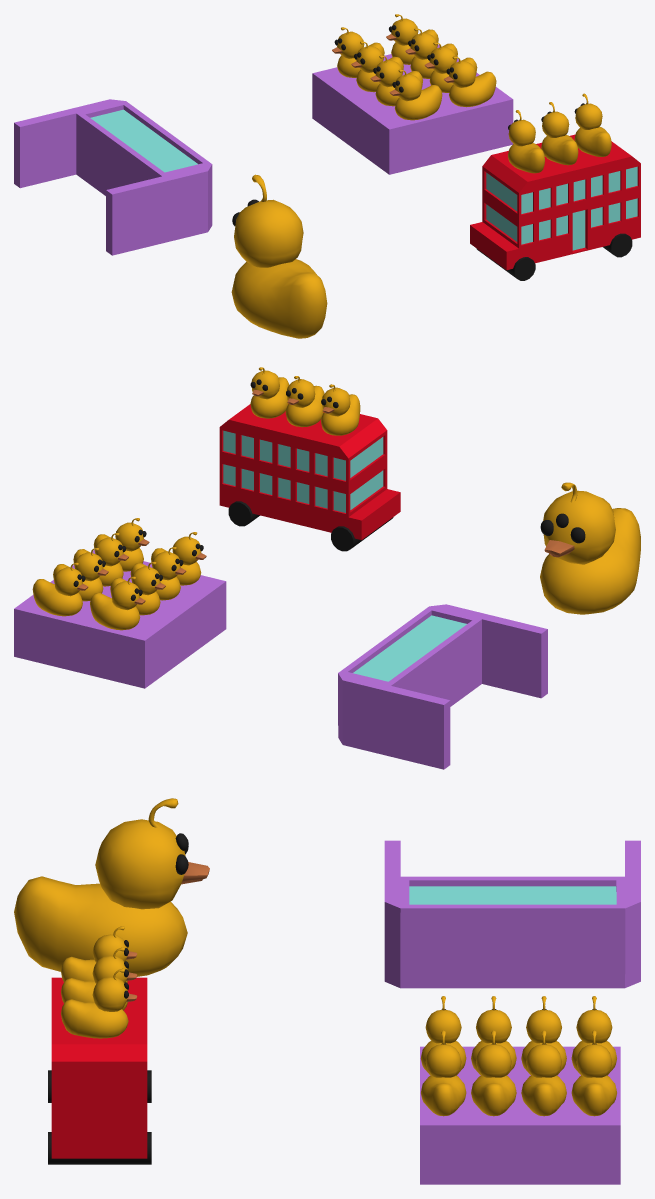
The model's file is Rubber_Duck_Platform.fbx.
3 views of the same model, one above another, from view 1: azimuth 30°, elevation 25°; view 2: azimuth 150°, elevation 25°; view 3: azimuth 270°, elevation 25° (orthographic). The views are drawn at different scales.
Visible parts, largest first — view 1: Cube.257, Cube.256, Cube.255, Sphere.006, Sphere.008, Sphere.004, Sphere.014, Cylinder.051, Cylinder.052; view 2: Cube.257, Cube.256, Cube.255, Sphere.006, Sphere.008, Sphere.004, Sphere.014, Cylinder.051; view 3: Cube.257, Sphere.006, Cube.255, Cube.256, Sphere.004, Sphere.014, Sphere.008, Cylinder.052.
Boxes of the visible parts, left/top/right/bottom form: Cube.257: left=14, top=99, right=212, bottom=255; Cube.256: left=470, top=134, right=640, bottom=270; Cube.255: left=312, top=44, right=513, bottom=174; Sphere.006: left=231, top=174, right=327, bottom=338; Sphere.008: left=332, top=27, right=442, bottom=120; Sphere.004: left=386, top=14, right=496, bottom=107; Sphere.014: left=508, top=93, right=611, bottom=173; Cylinder.051: left=476, top=248, right=535, bottom=280; Cylinder.052: left=603, top=233, right=632, bottom=257; Cube.257: left=338, top=604, right=547, bottom=769; Cube.256: left=219, top=403, right=400, bottom=539; Cube.255: left=14, top=550, right=226, bottom=688; Sphere.006: left=540, top=482, right=640, bottom=614; Sphere.008: left=90, top=532, right=206, bottom=630; Sphere.004: left=32, top=518, right=149, bottom=616; Sphere.014: left=250, top=367, right=360, bottom=435; Cylinder.051: left=331, top=517, right=393, bottom=551; Cube.257: left=384, top=840, right=640, bottom=988; Sphere.006: left=14, top=798, right=209, bottom=976; Cube.255: left=420, top=1046, right=620, bottom=1184; Cube.256: left=51, top=977, right=147, bottom=1158; Sphere.004: left=421, top=1030, right=616, bottom=1116; Sphere.014: left=61, top=926, right=137, bottom=1038; Sphere.008: left=420, top=996, right=616, bottom=1075; Cylinder.052: left=48, top=1132, right=151, bottom=1164.
Size of the model in its own units: 618 by 210 by 620.
